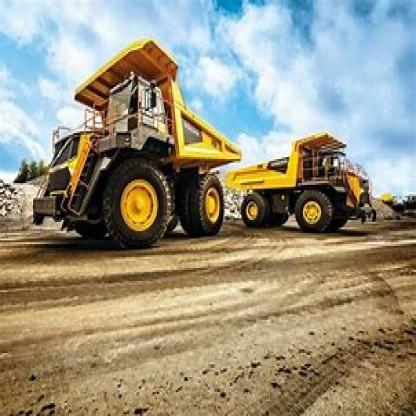dump_truck: (26, 38, 238, 250), (241, 109, 377, 239)
